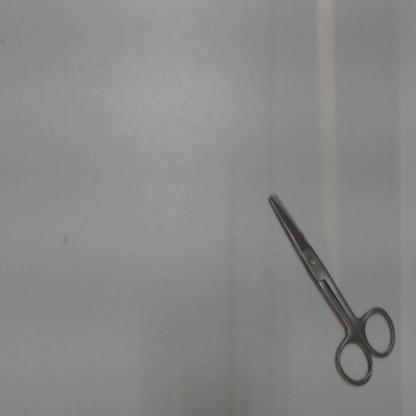Dressing Scissors: (257, 180, 403, 392)
